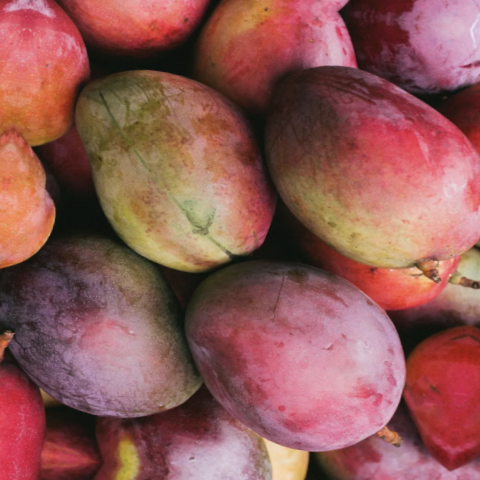mango: (235, 31, 480, 302), (166, 247, 449, 473), (62, 37, 298, 306), (0, 213, 226, 440)
